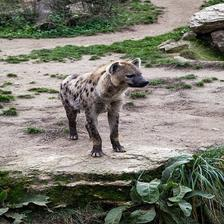hyena: (59, 54, 152, 159)
